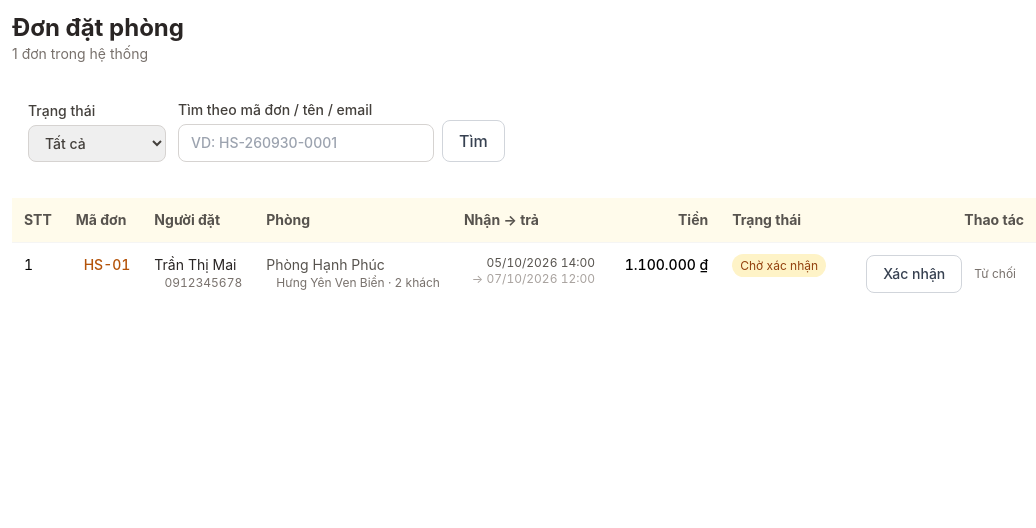
Scenario: AdminBookings - tu choi don › CoLyDo_GoiApiVaDongForm
expect the text "HS-01" is shown: met, box x1=64 y1=242 x2=142 y2=305
Click the button "Từ chối": point(995, 274) x1=966 y1=255 x2=1024 y2=293
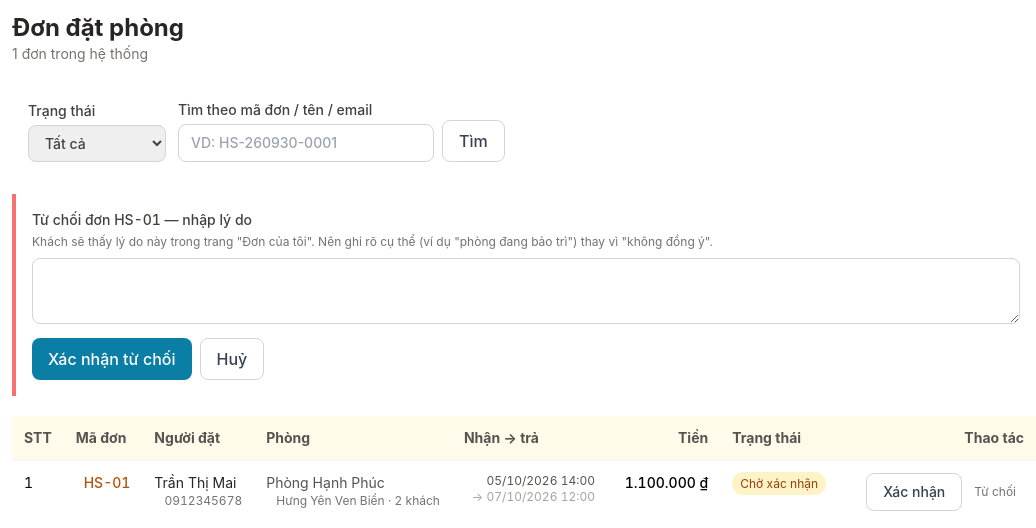
In the text box named "Lý do từ chối": point(526, 291) x1=32 y1=258 x2=1020 y2=324, type "Phòng bảo trì"
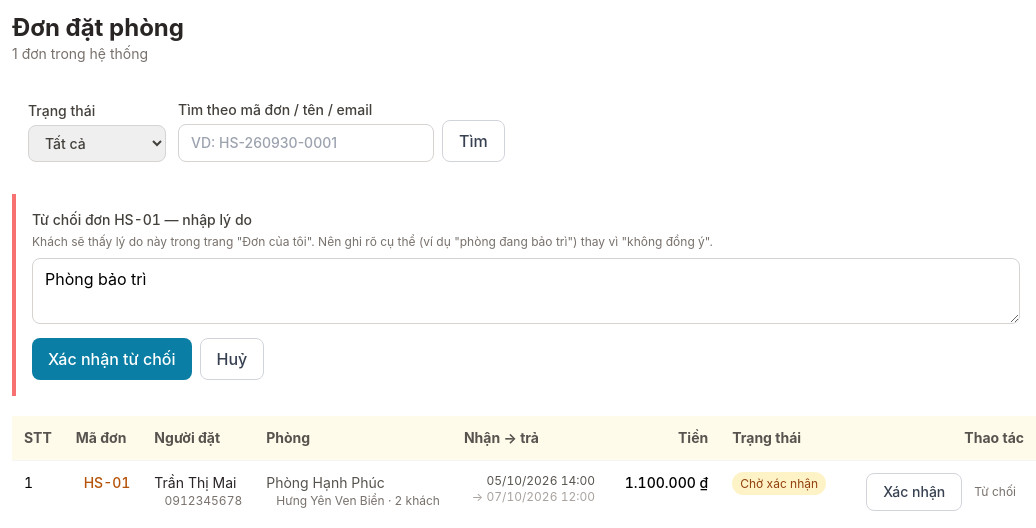
Click the button "Xác nhận từ chối": point(112, 359) x1=32 y1=338 x2=192 y2=380
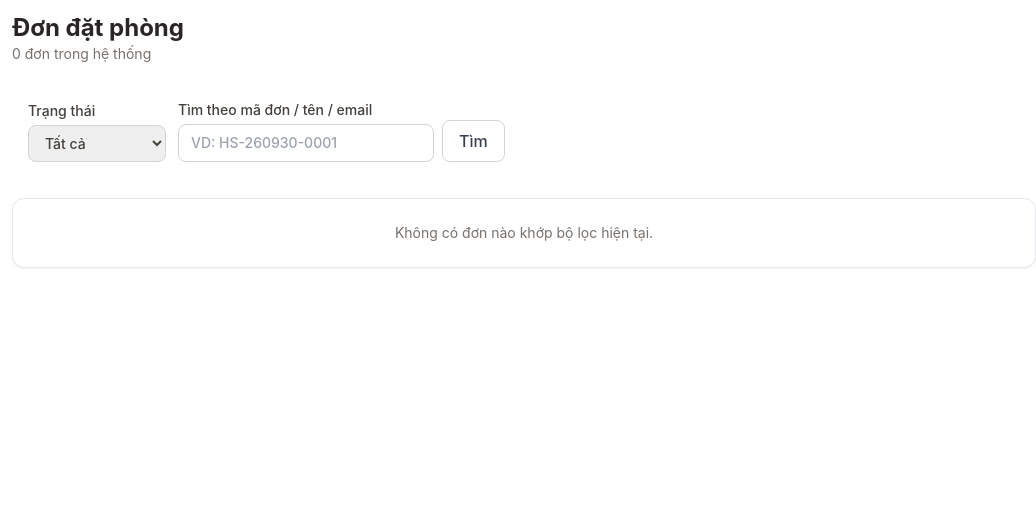
expect the text "Không có đơn nào khớp bộ lọc hiện tại." is shown: met, box x1=12 y1=198 x2=1035 y2=268
